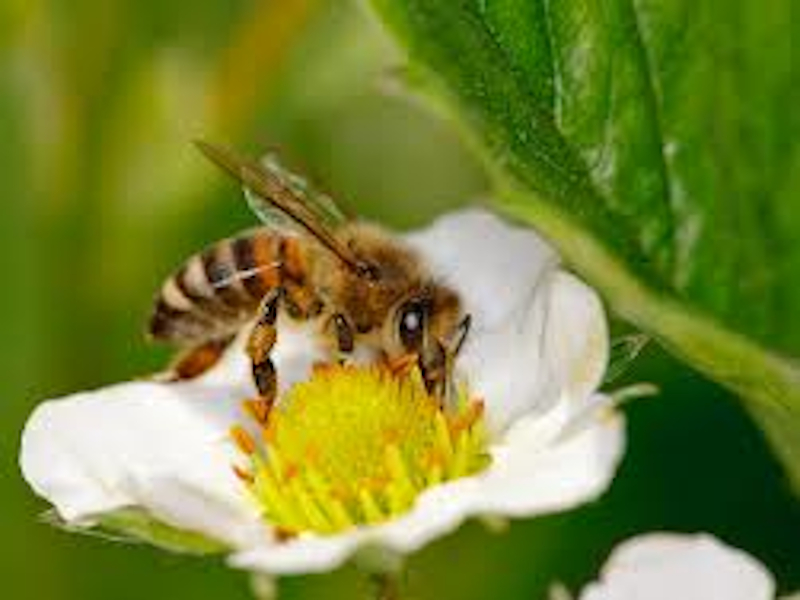abeja: (121, 133, 505, 449)
